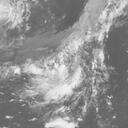cyclone: (30, 47, 92, 106)
